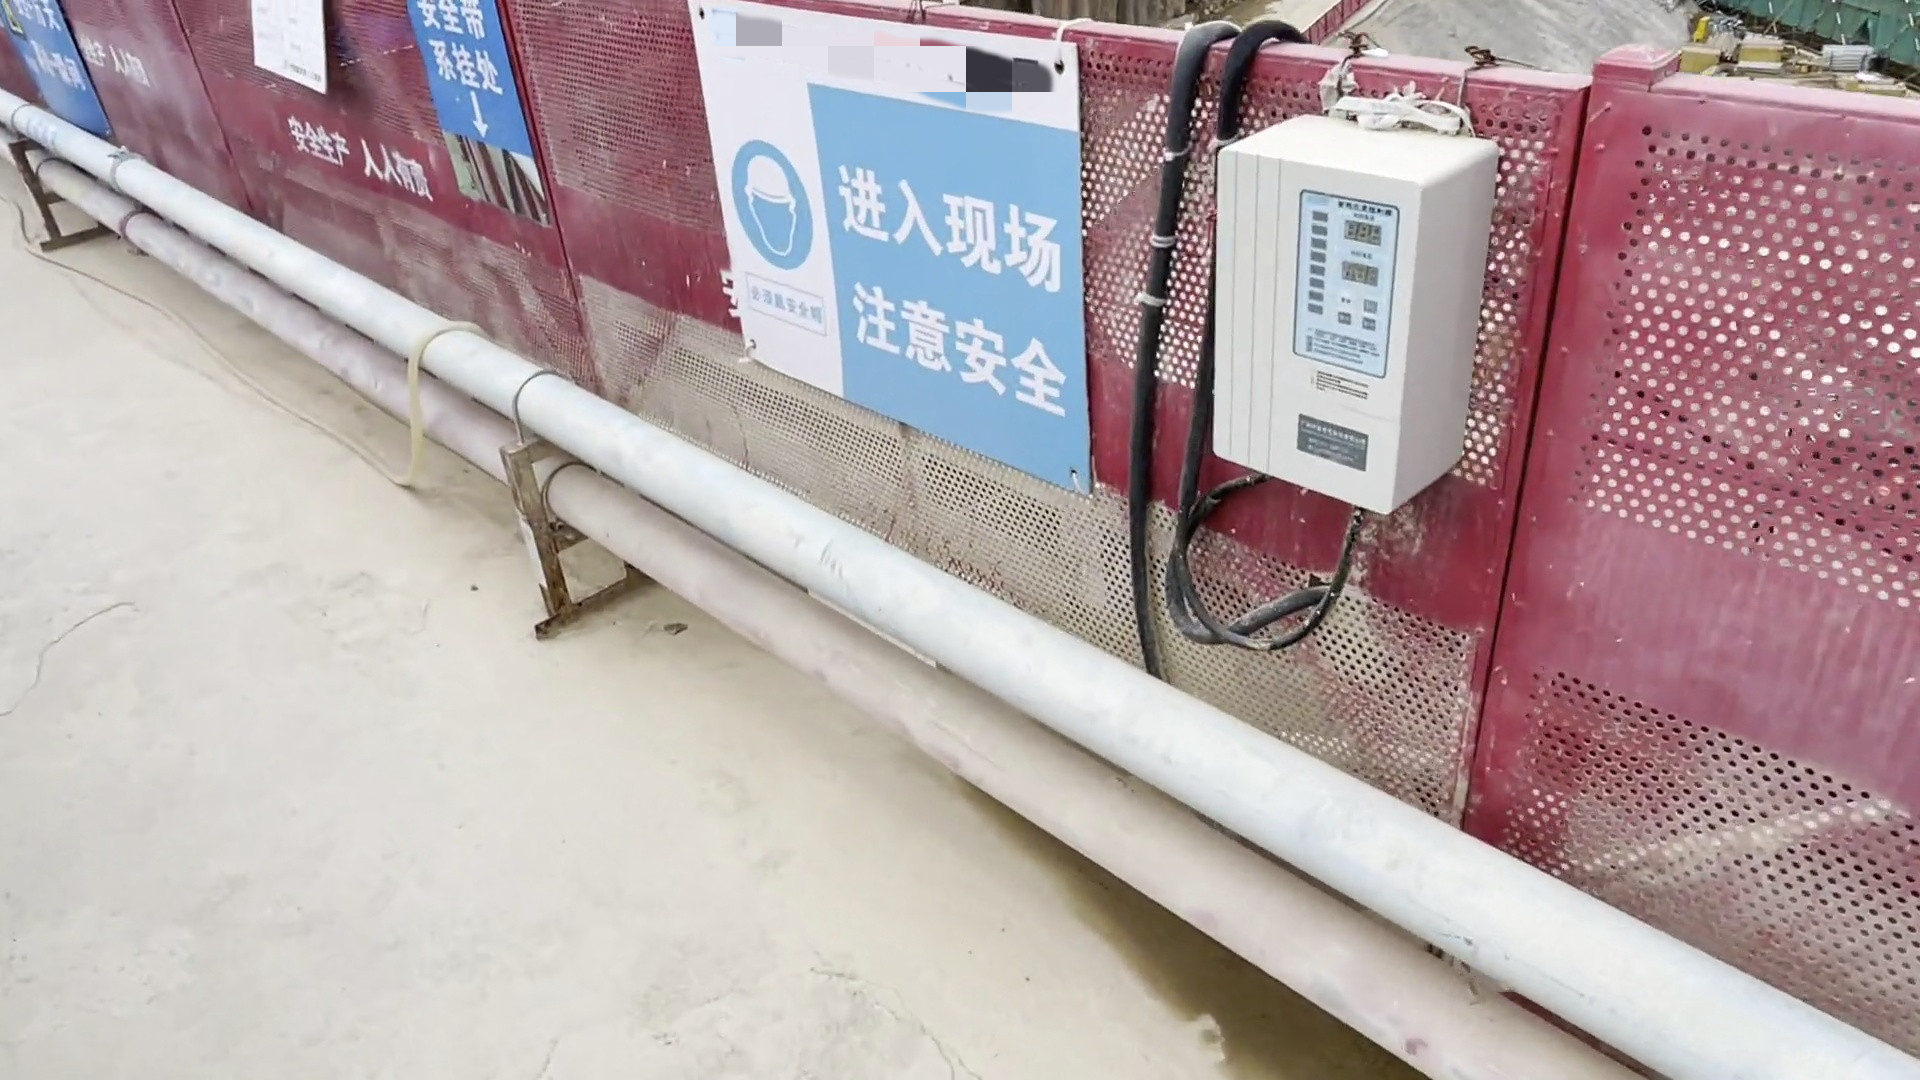ebox: (1203, 94, 1506, 534)
fence: (1520, 49, 1920, 978)
slogan: (688, 1, 1097, 501), (229, 1, 549, 160), (9, 1, 109, 135)
